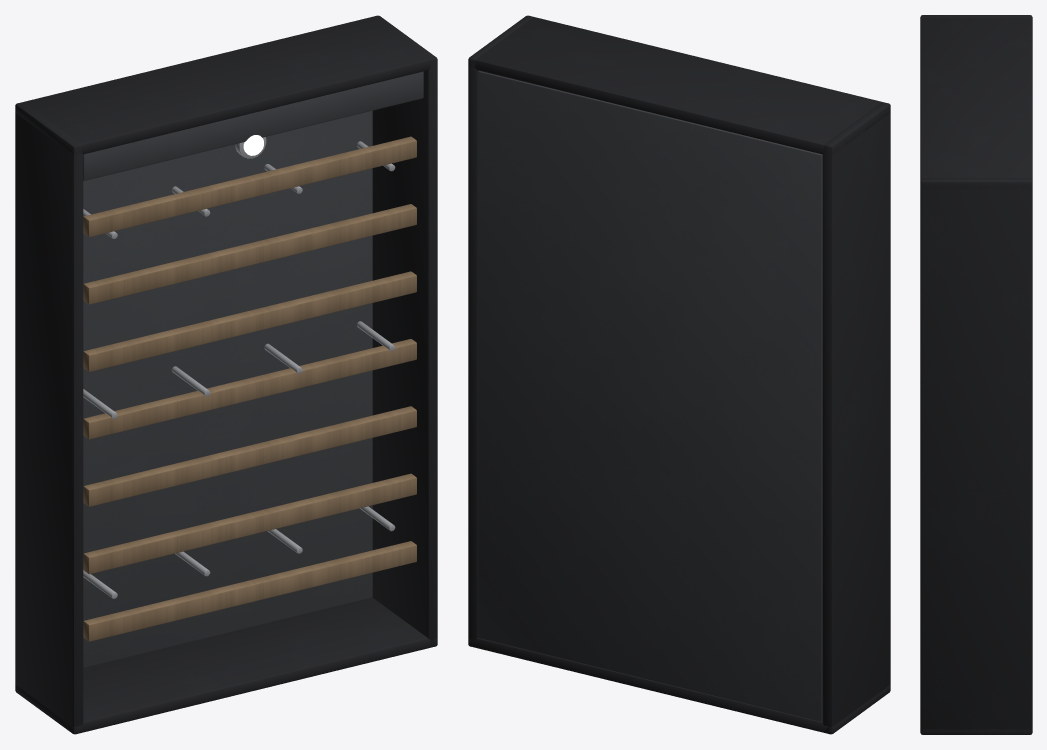
File: pf_display_hat_wall_t2.glb
3 views of the same model, side by side, from view 1: azimuth 30°, elevation 25°; view 2: azimuth 150°, elevation 25°; view 3: azimuth 270°, elevation 25° (orthographic). The views are drawn at different scales.
Visible parts, largest first — view 1: Case_Back, Case_Left, Case_Right, Case_Top, Case_Base, Header_Back, Slat_01, Slat_02, Slat_06, Slat_07, Slat_05, Slat_03 (+1 smaller); view 2: Case_Back, Case_Left, Case_Top, Case_Right, Case_Base; view 3: Case_Right, Case_Top, Case_Base, Case_Left.
Part boxes in pixels (left/top/right/bottom): Case_Back: left=83, top=110, right=372, bottom=667; Case_Left: left=15, top=102, right=83, bottom=733; Case_Right: left=372, top=15, right=437, bottom=646; Case_Top: left=15, top=17, right=435, bottom=154; Case_Base: left=15, top=597, right=437, bottom=734; Header_Back: left=83, top=71, right=423, bottom=180; Slat_01: left=83, top=541, right=416, bottom=641; Slat_02: left=83, top=473, right=416, bottom=574; Slat_06: left=83, top=204, right=416, bottom=304; Slat_07: left=83, top=136, right=416, bottom=237; Slat_05: left=83, top=271, right=416, bottom=371; Slat_03: left=83, top=406, right=416, bottom=506; Case_Back: left=478, top=71, right=822, bottom=721; Case_Left: left=822, top=102, right=890, bottom=734; Case_Top: left=468, top=17, right=890, bottom=154; Case_Right: left=468, top=15, right=533, bottom=644; Case_Base: left=468, top=638, right=890, bottom=734; Case_Right: left=920, top=178, right=1032, bottom=734; Case_Top: left=920, top=17, right=1032, bottom=189; Case_Base: left=920, top=727, right=1032, bottom=734; Case_Left: left=920, top=15, right=1032, bottom=19.
Bounding box in the file's own units: 1.2 × 1.85 × 0.34.
6 materials, 3 textured.
